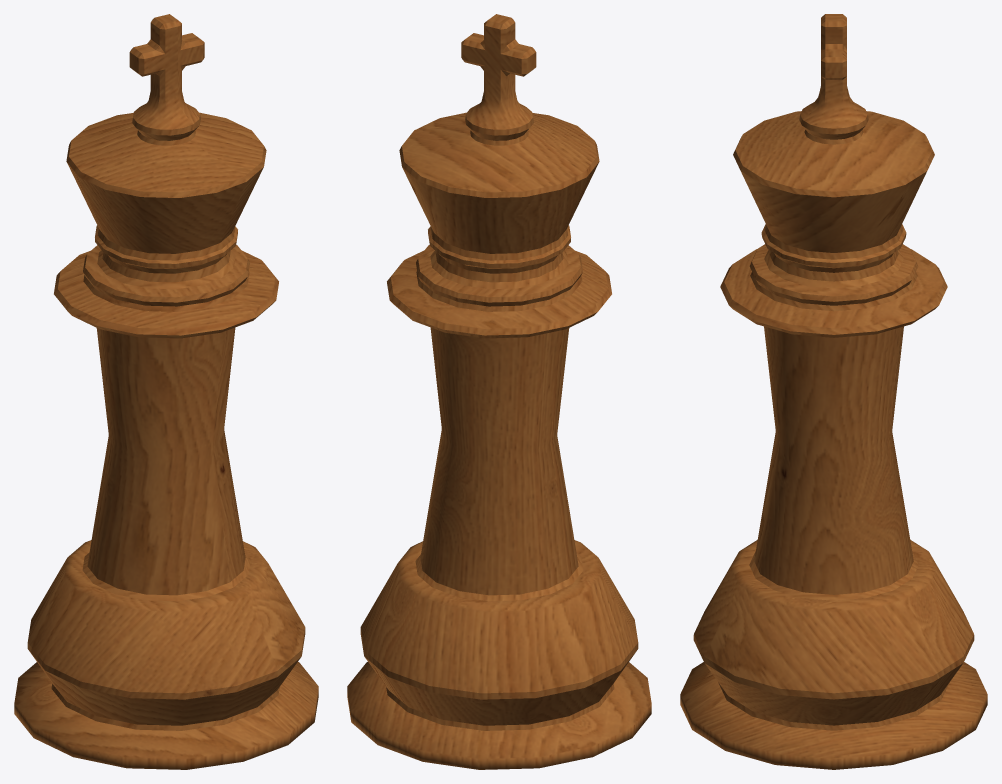
The model's file is SM_WhiteKing.fbx.
The picture shows the model from 3 angles, left to right: view 1: azimuth 30°, elevation 25°; view 2: azimuth 150°, elevation 25°; view 3: azimuth 270°, elevation 25°; orthographic projection.
Parts seen in each view (by area): view 1: SM_WhiteKing; view 2: SM_WhiteKing; view 3: SM_WhiteKing.
Part boxes in pixels (x1,y1,x2,y2): SM_WhiteKing: (14, 14, 318, 769); SM_WhiteKing: (347, 14, 651, 769); SM_WhiteKing: (680, 14, 987, 769).
Bounding box in the file's own units: 8.8 × 22.07 × 8.8.
